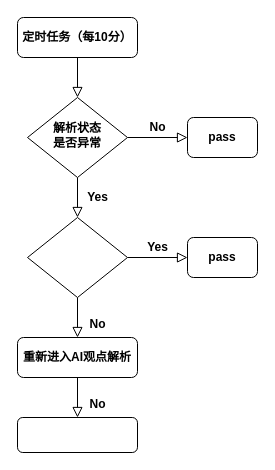
Some shapes in this 275 by 470 pixel diagram are drawn without their labels. The centre of each missing label's shape, as x and y in pixels:
"重试次数 是否超过阈值" goes at [77,257].
"重试次数+1 更新解析状态" goes at [77,434].
